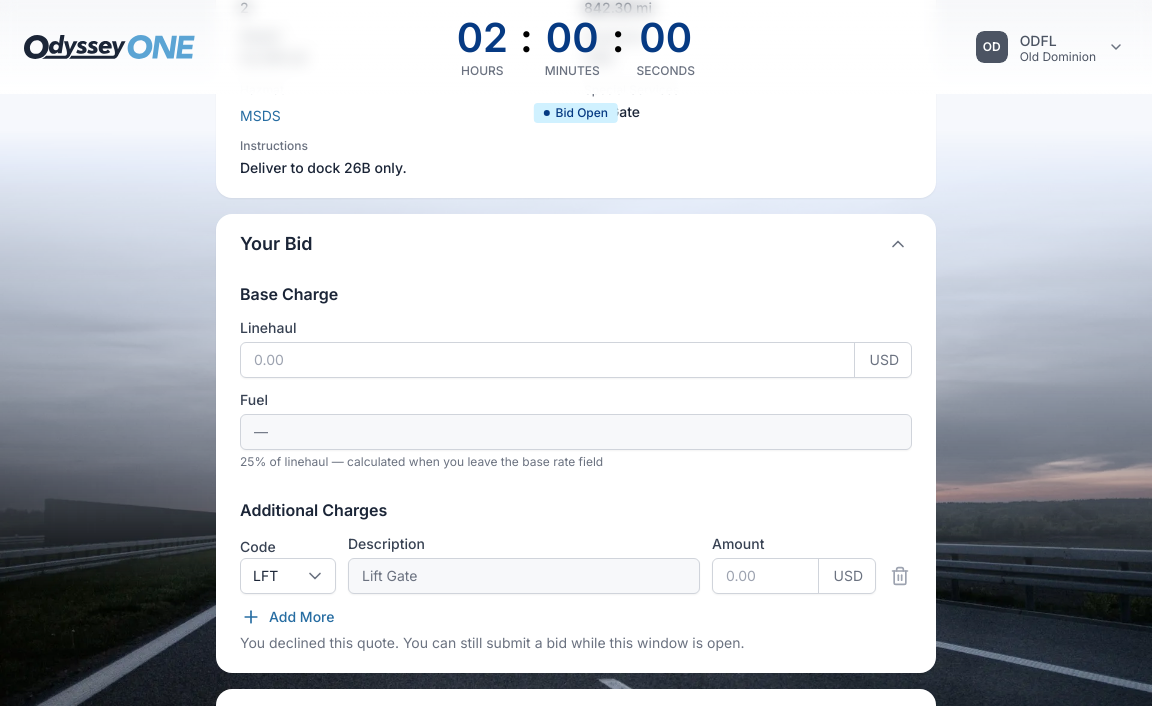
Test: CarrierBid — open quote › a returning declined carrier (declined status already in the store) also sees Decline disabled and "Bid Now", not just right after confirming
This screenshot has width=1152, height=706.
(page scrolled)
Type "1000" into the field labelled "Linehaul" at point(548, 360), box left=254, top=350, right=842, bottom=370
(page scrolled)
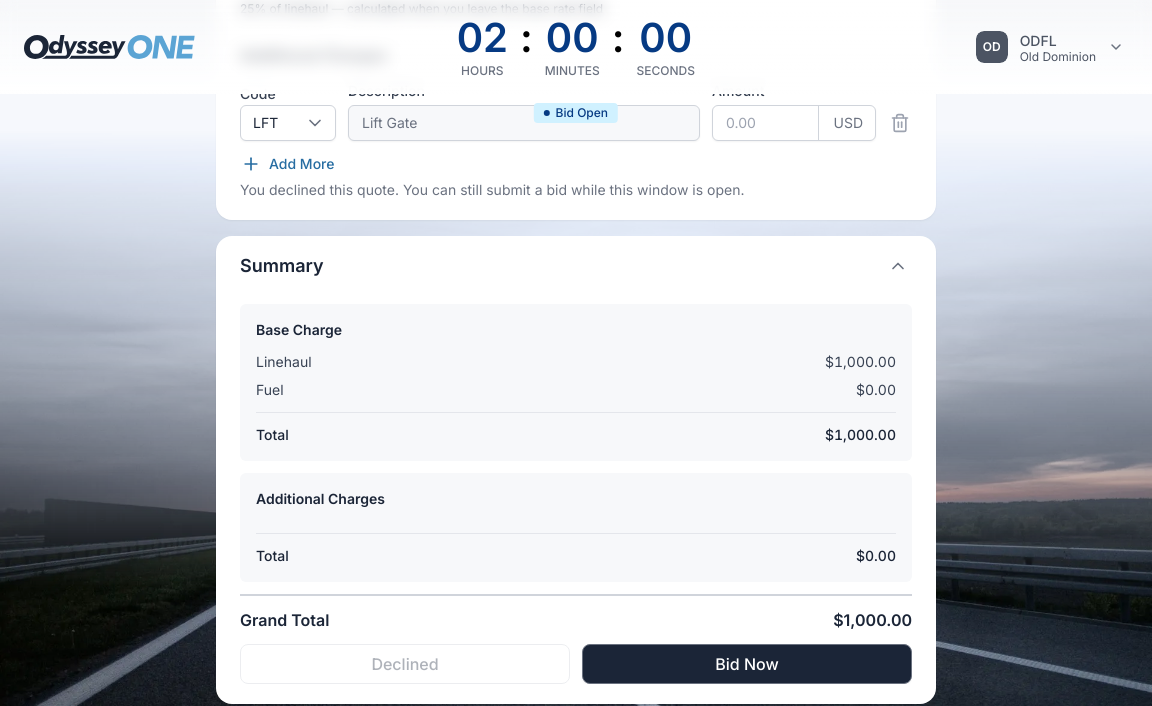
Click the button "Bid Now" at point(747, 664), box left=582, top=644, right=912, bottom=684
(page scrolled)
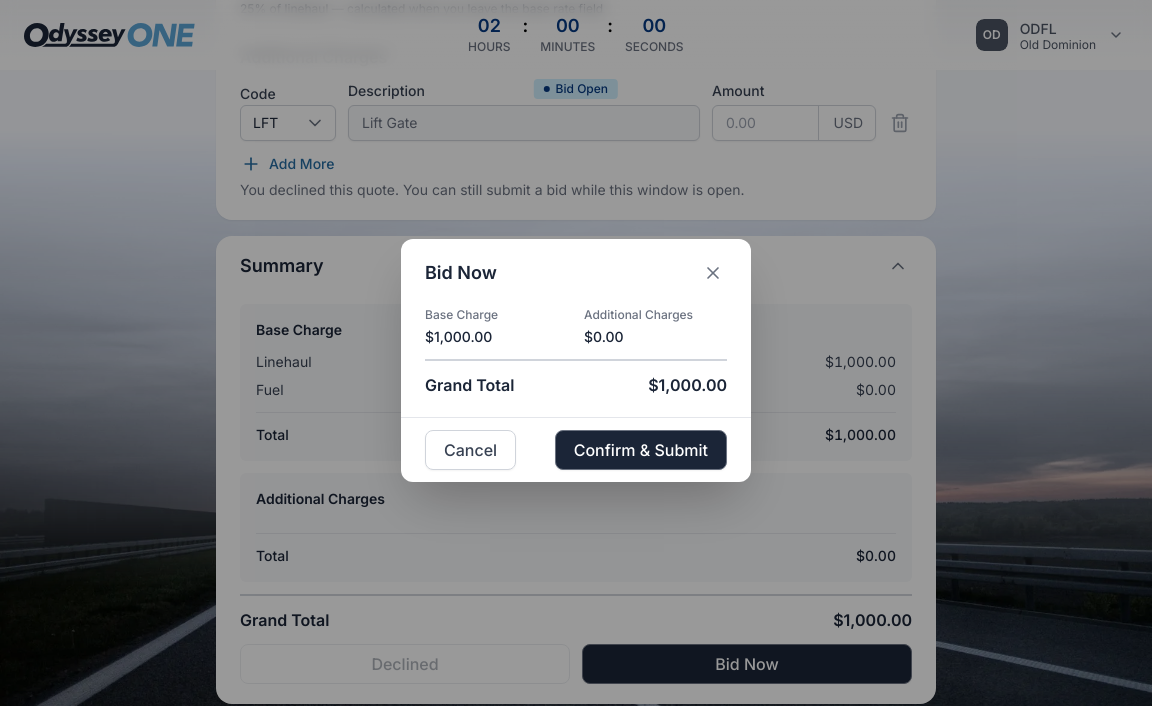
Result: the dialog "Bid Now" is shown at left=401, top=238, right=751, bottom=482
